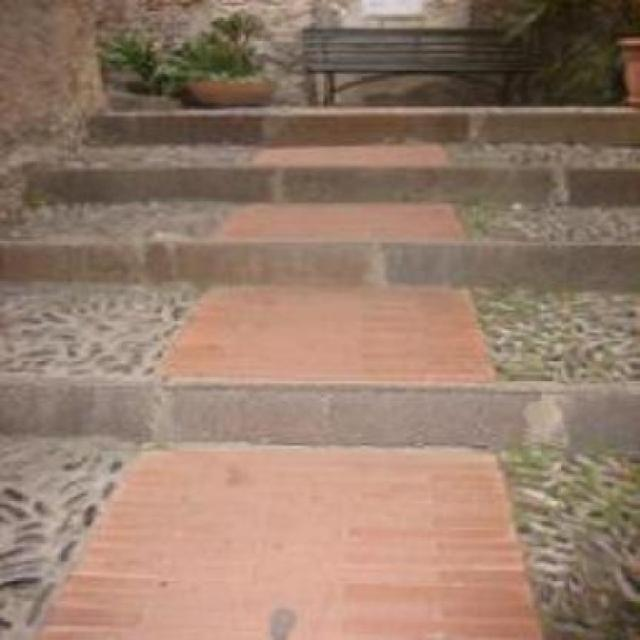stair: (1, 105, 640, 465)
